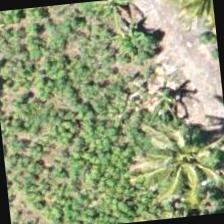Kelapa_Sawit: (130, 103, 223, 203)
